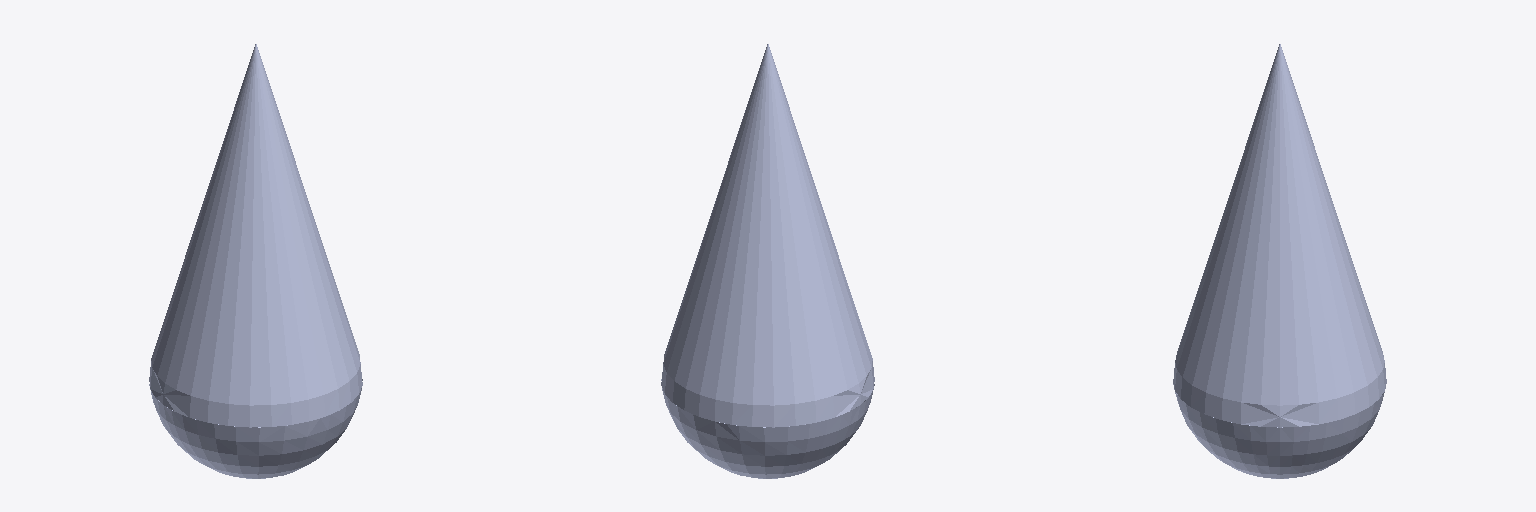
Rendered from Lobe.obj.
The picture shows the model from 3 angles: view 1: azimuth 30°, elevation 25°; view 2: azimuth 150°, elevation 25°; view 3: azimuth 270°, elevation 25°; orthographic projection.
Visible parts, largest first — view 1: IGES_Model_Data_DC_Brep; view 2: IGES_Model_Data_DC_Brep; view 3: IGES_Model_Data_DC_Brep.
Boxes of the visible parts, <box> form: IGES_Model_Data_DC_Brep: <box>149,44,362,478</box>; IGES_Model_Data_DC_Brep: <box>661,44,874,478</box>; IGES_Model_Data_DC_Brep: <box>1173,44,1386,478</box>.
Bounding box in the file's own units: 0.0754 × 0.1658 × 0.0752.